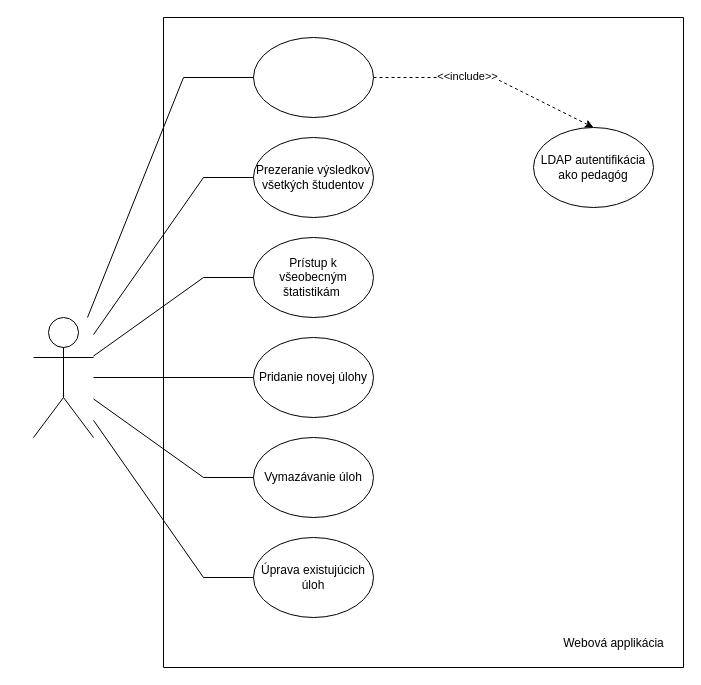
This 701x685 diagram has some shape labels left out. The shapes that lost their labels are listed below. From the top down, each one's centre as x and y in pixels, then its label:
the point at 313,77: Prihlásenie do systému
the point at 63,377: Admin (pedagóg)
